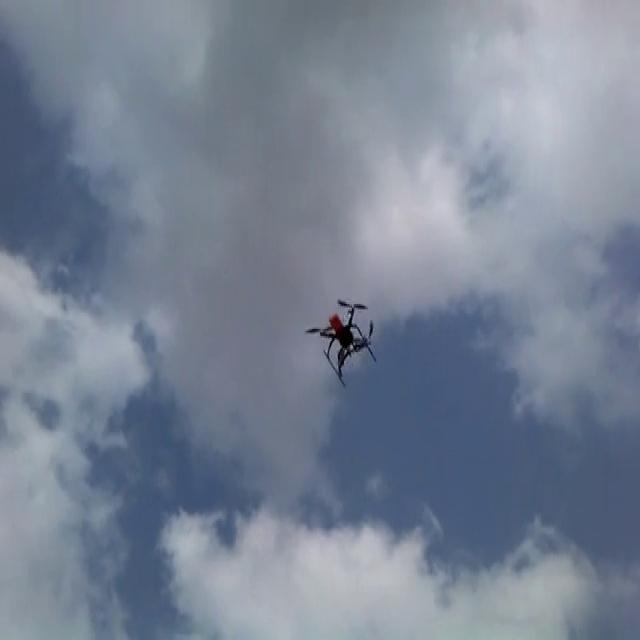drone: (303, 297, 376, 387)
